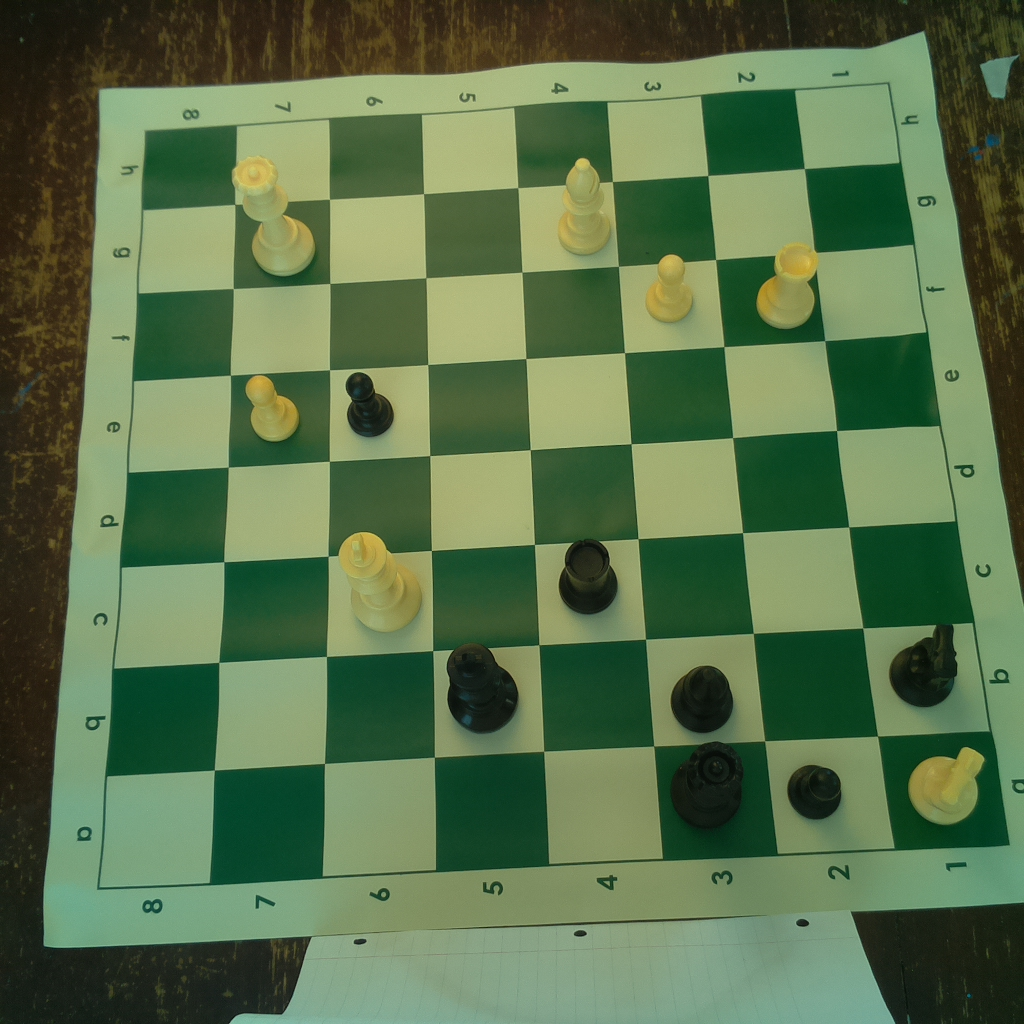black_bishop: (667, 653, 741, 734)
black_king: (440, 639, 520, 736)
black_knight: (884, 618, 964, 709)
black_pawn: (340, 366, 399, 441), (786, 752, 847, 822)
black_queen: (667, 738, 750, 832)
black_rook: (557, 536, 621, 615)
file_a: (93, 730, 1012, 893)
file_b: (107, 622, 989, 774)
file_c: (114, 522, 976, 670)
file_d: (119, 425, 955, 567)
file_e: (129, 332, 938, 474)
file_f: (134, 243, 925, 382)
file_g: (137, 164, 918, 293)
file_h: (142, 84, 906, 212)
outline: (98, 83, 1011, 895)
rank_1: (794, 82, 1010, 852)
rank_2: (701, 88, 896, 856)
rank_3: (608, 92, 781, 860)
rank_4: (515, 100, 663, 864)
rank_5: (421, 106, 553, 873)
rank_6: (321, 112, 437, 874)
rank_7: (211, 119, 332, 883)
rank_8: (96, 126, 237, 887)
white_bishop: (553, 154, 615, 254)
white_king: (332, 528, 425, 632)
white_knight: (905, 740, 989, 830)
white_pawn: (240, 370, 305, 443), (646, 248, 698, 326)
white_queen: (225, 148, 320, 280)
white_rook: (753, 238, 819, 328)
